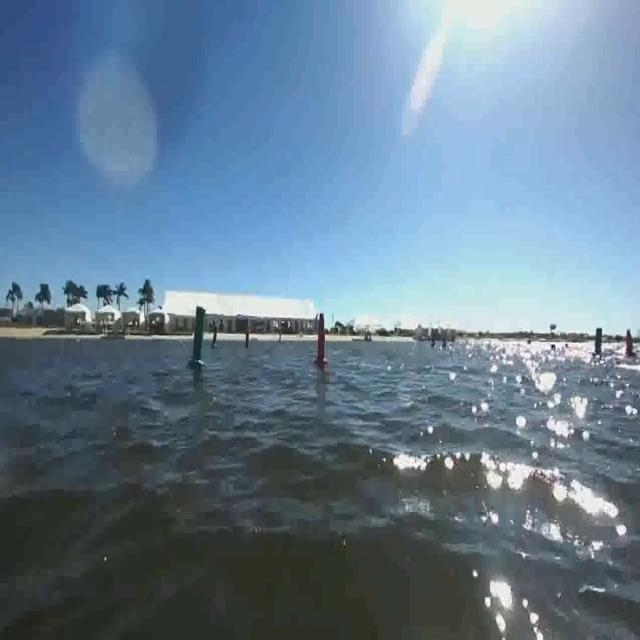green-column-buoy: (189, 306, 208, 370), (592, 325, 606, 358), (211, 321, 220, 350)
red-column-buoy: (313, 313, 329, 368), (624, 328, 636, 361)
